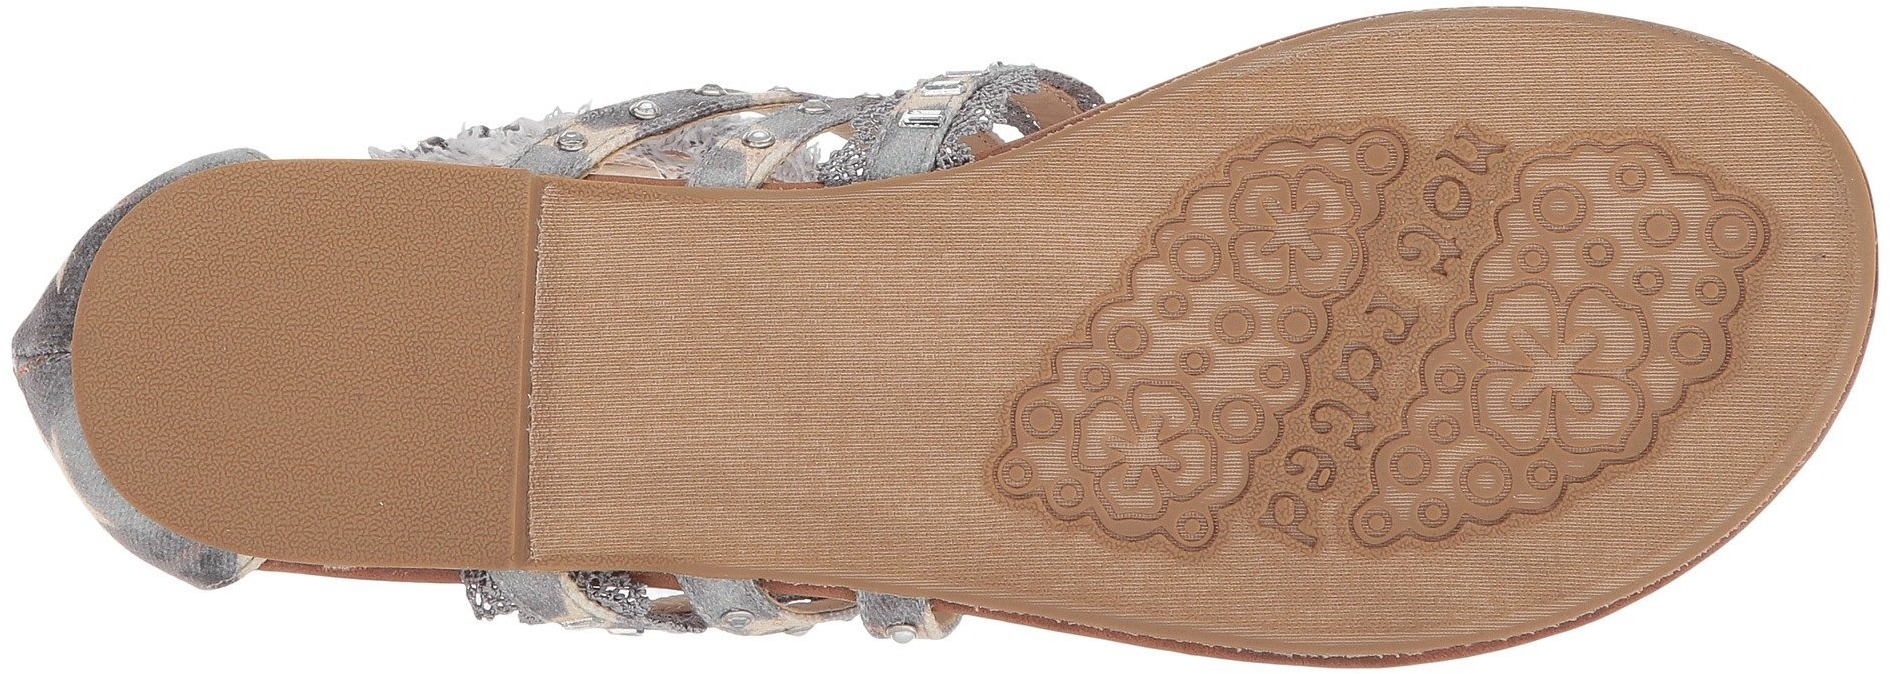circle: (1583, 154, 1747, 294), (1155, 266, 1287, 391), (1372, 446, 1474, 527)
other: (231, 320, 493, 558), (362, 176, 505, 313), (221, 171, 358, 307), (86, 285, 219, 416), (1019, 150, 1134, 268), (1512, 33, 1613, 131), (1364, 561, 1474, 647)
text: (1368, 217, 1471, 321), (1244, 452, 1342, 558), (1317, 336, 1419, 426), (1410, 119, 1512, 204)
